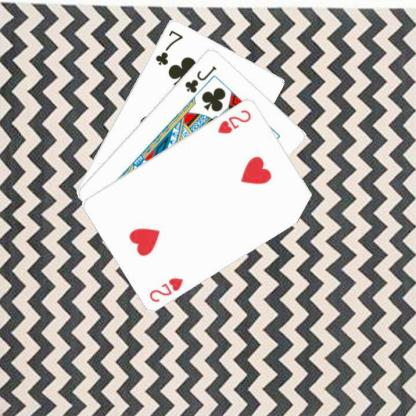2H: (146, 274, 185, 304), (215, 107, 253, 136)
7C: (152, 28, 184, 66)
JC: (182, 63, 218, 94)
